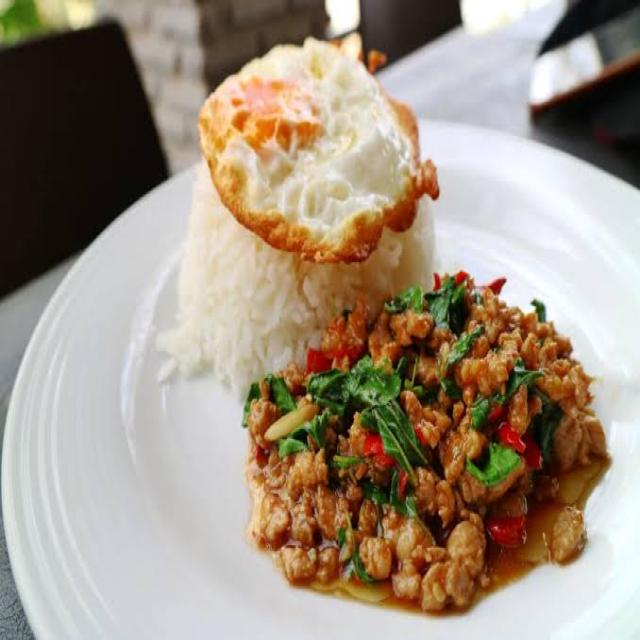basil chicken rice: (178, 63, 630, 610)
carb: (206, 228, 442, 328), (184, 187, 292, 375)
meat: (291, 334, 601, 595)
vegetable: (326, 357, 414, 455)
